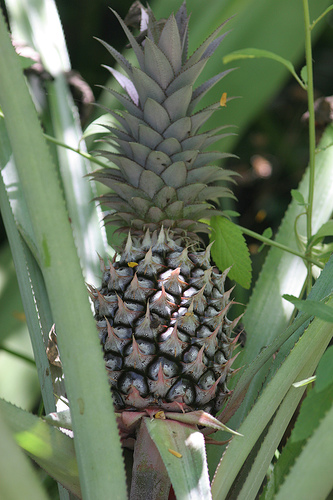pineapple: (86, 2, 245, 416)
